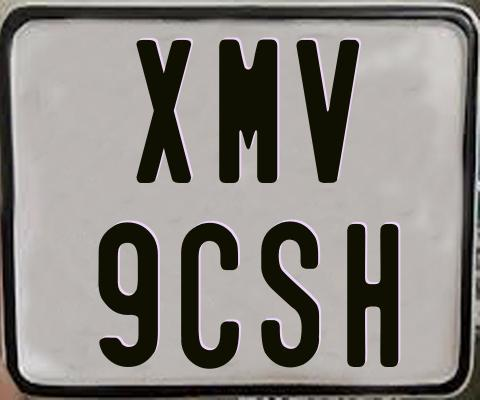9: (98, 219, 163, 366)
C: (180, 221, 241, 369)
H: (346, 224, 401, 370)
M: (218, 39, 277, 188)
S: (258, 218, 320, 366)
V: (294, 39, 358, 182)
X: (133, 40, 192, 186)
